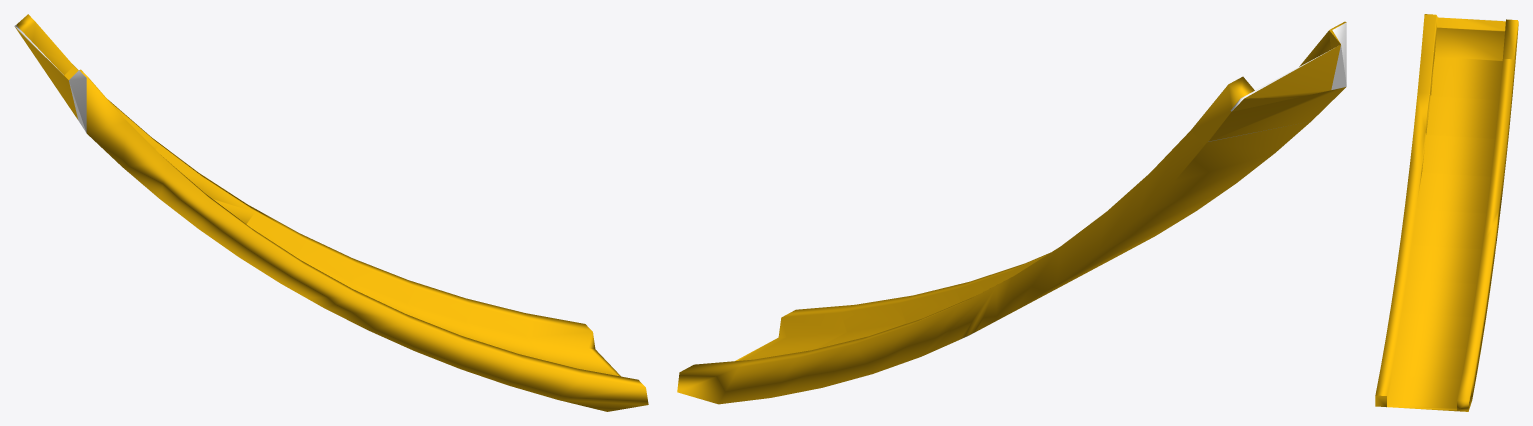
3 renders of one model, left to right at view 1: azimuth 30°, elevation 25°; view 2: azimuth 150°, elevation 25°; view 3: azimuth 270°, elevation 25°, orthographic. The views are drawn at different scales.
Visible parts, largest first — view 1: Layer0_001; view 2: Layer0_001; view 3: Layer0_001.
Part boxes in pixels (x1,y1,x2,y2): Layer0_001: [14, 14, 648, 411]; Layer0_001: [677, 21, 1346, 404]; Layer0_001: [1375, 14, 1518, 411].
Size of the model in its own units: 7310 by 5411 by 2872.
